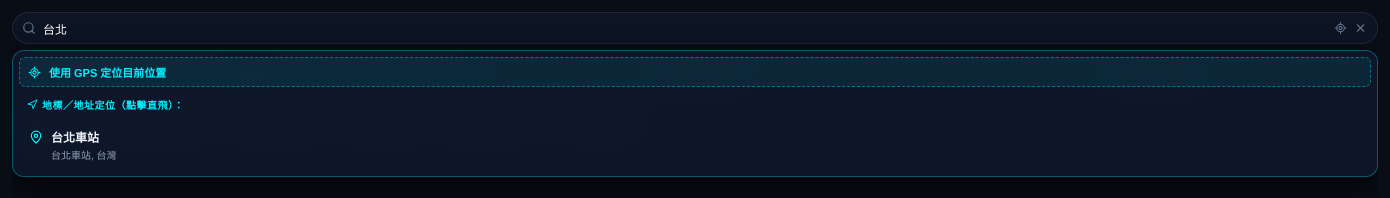
it: TonightFilter › Geocoding Interactions › selects location and closes dropdown on click
The image size is (1390, 198).
Click the text "台北車站".
click(75, 138)  # box [51,131,99,145]
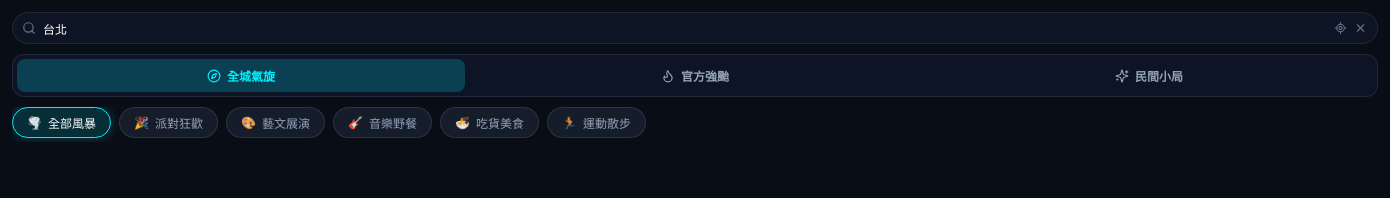
Now the text "地標／地址定位（點擊直飛）：" is gone
